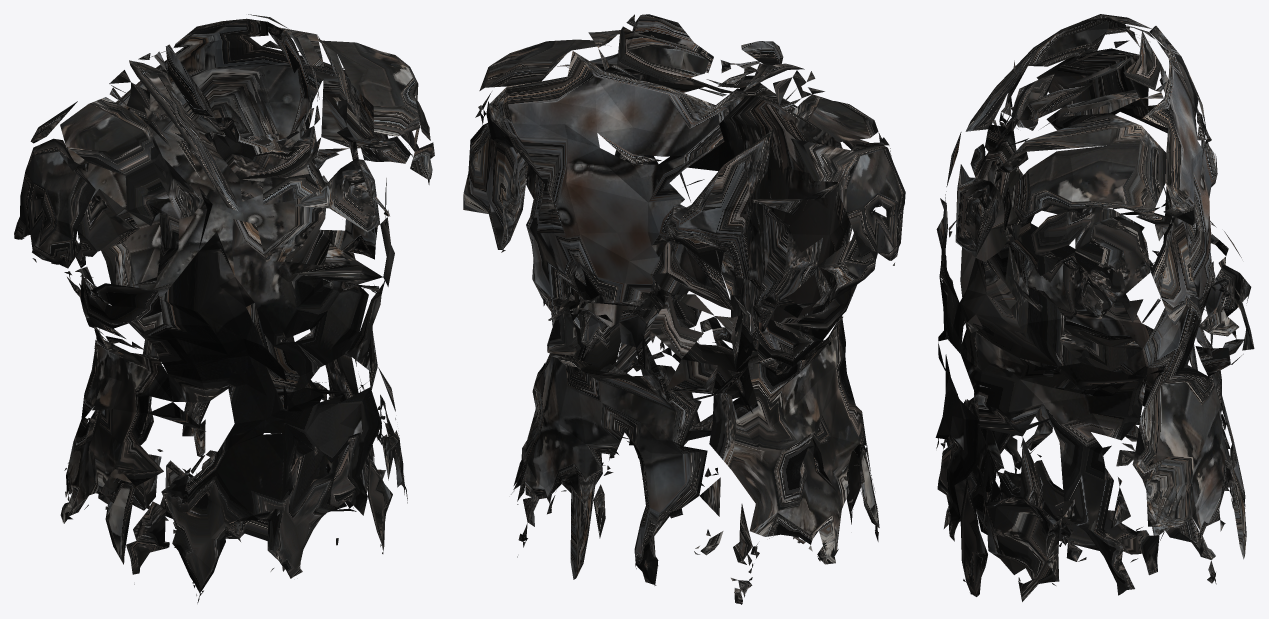
Rendered from undead-husk-armor.glb.
3 views of the same model, side by side, from view 1: azimuth 30°, elevation 25°; view 2: azimuth 150°, elevation 25°; view 3: azimuth 270°, elevation 25° (orthographic). The views are drawn at different scales.
Parts seen in each view (by area): view 1: mesh; view 2: mesh; view 3: mesh.
Boxes of the visible parts, <box> form: mesh: <box>14,14,434,603</box>; mesh: <box>463,14,905,604</box>; mesh: <box>935,14,1254,601</box>.
Bounding box in the file's own units: 1.59 × 1.96 × 1.1.
Materials: 1 (1 with a texture image).
